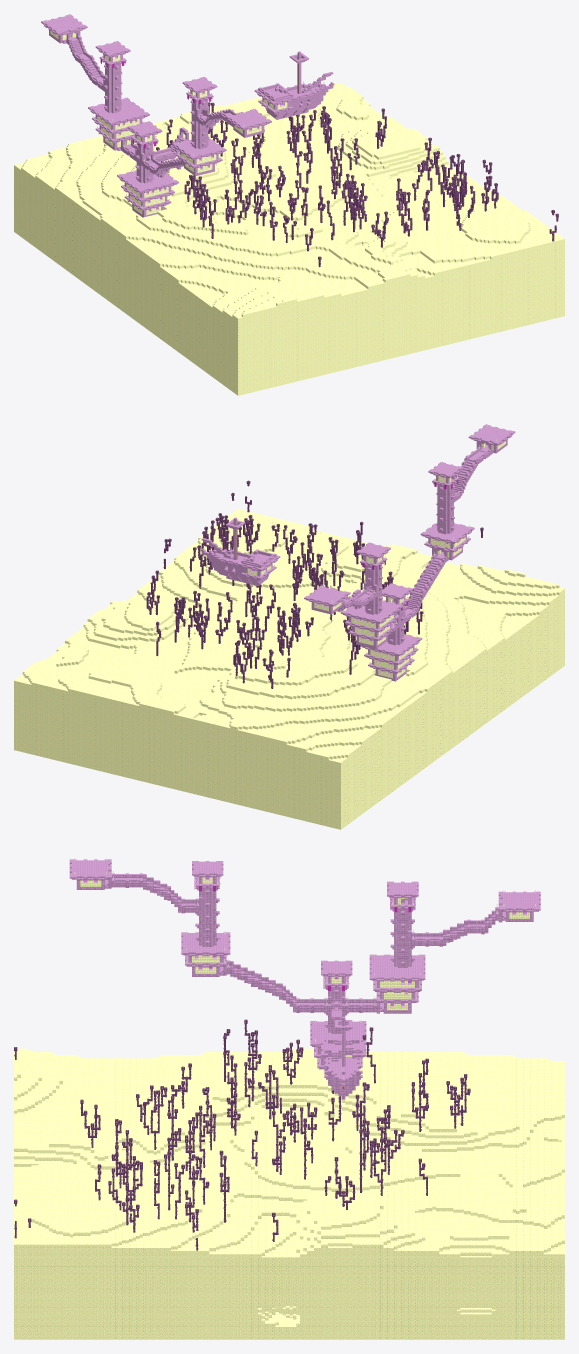
The model's file is end_city_minecraft.glb.
3 views of the same model, one above another, from view 1: azimuth 30°, elevation 25°; view 2: azimuth 150°, elevation 25°; view 3: azimuth 270°, elevation 25° (orthographic). The views are drawn at different scales.
Parts seen in each view (by area): view 1: Object_3; view 2: Object_3; view 3: Object_3.
Part boxes in pixels (x1=…): Object_3: x1=14, y1=14, x2=564, y2=395; Object_3: x1=14, y1=424, x2=564, y2=829; Object_3: x1=14, y1=859, x2=564, y2=1339.
Bounding box in the file's own units: 1.37 × 0.9897 × 1.63.
Materials: 4 (4 with a texture image).
